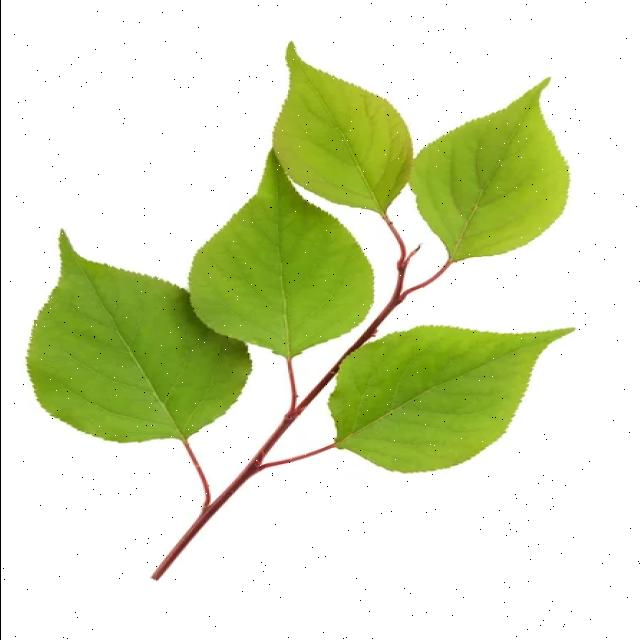Yaprak: (27, 231, 250, 439), (189, 156, 373, 356), (329, 325, 571, 471), (410, 80, 568, 260), (274, 44, 412, 212)
